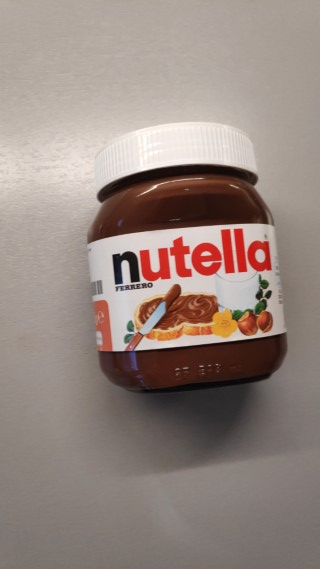nutella: (84, 119, 289, 394)
